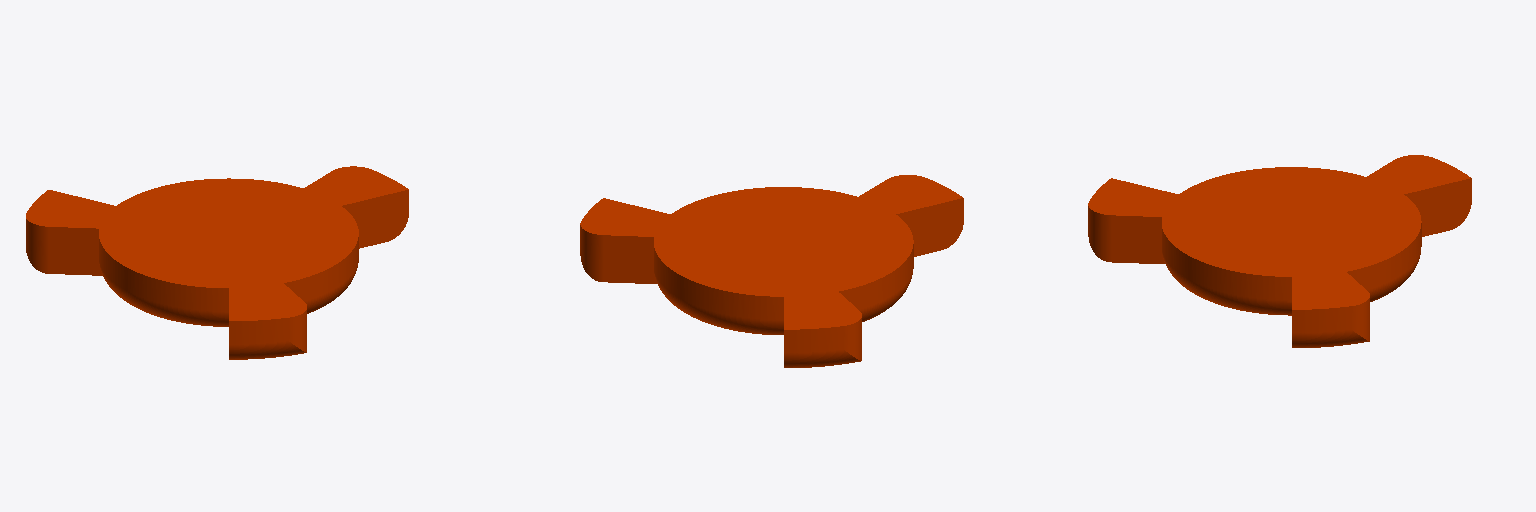
The picture shows the model from 3 angles: view 1: azimuth 30°, elevation 25°; view 2: azimuth 150°, elevation 25°; view 3: azimuth 270°, elevation 25°; orthographic projection.
Visible parts, largest first — view 1: base; view 2: base; view 3: base.
Part boxes in pixels (left/top/right/bottom): base: left=26, top=166, right=408, bottom=359; base: left=580, top=175, right=963, bottom=367; base: left=1088, top=155, right=1471, bottom=347.
Size of the model in its own units: 705 by 100 by 737.